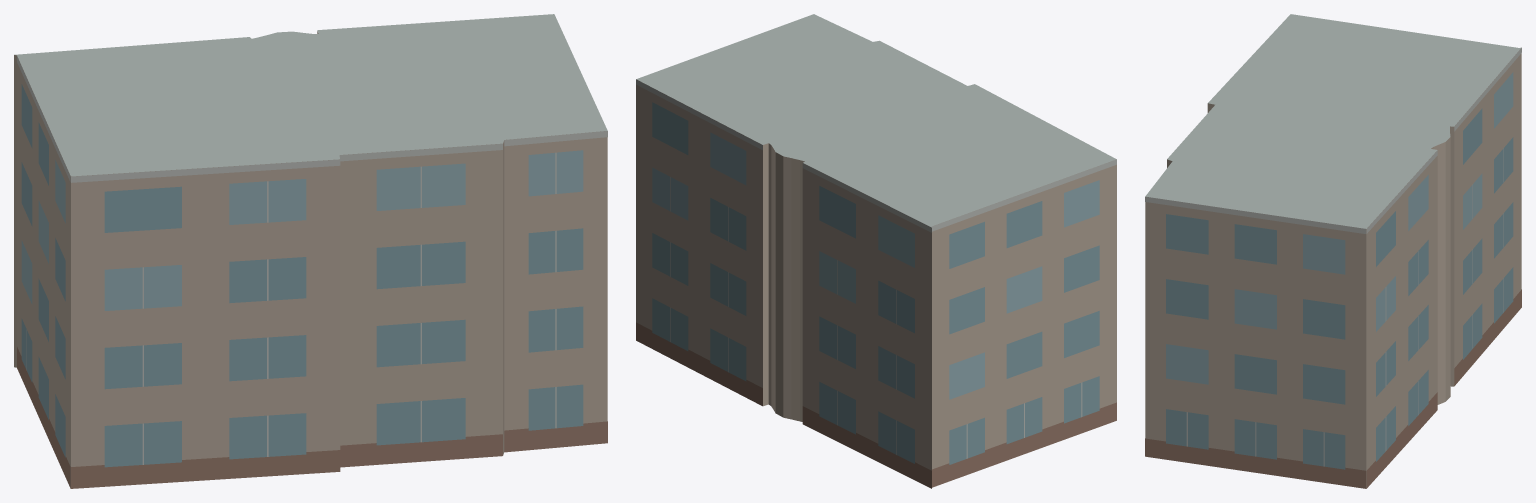
File: survey-upis-32995239.glb
3 renders of one model, left to right at view 1: azimuth 30°, elevation 25°; view 2: azimuth 150°, elevation 25°; view 3: azimuth 270°, elevation 25°, orthographic. The views are drawn at different scales.
Parts seen in each view (by area): view 1: survey-upis-32995239.tmp; view 2: survey-upis-32995239.tmp; view 3: survey-upis-32995239.tmp.
Part boxes in pixels (bbox=[...]): survey-upis-32995239.tmp: bbox=[14, 14, 607, 488]; survey-upis-32995239.tmp: bbox=[636, 14, 1116, 488]; survey-upis-32995239.tmp: bbox=[1145, 14, 1521, 488].
Bounding box in the file's own units: 21.1 × 11.9 × 15.64.
